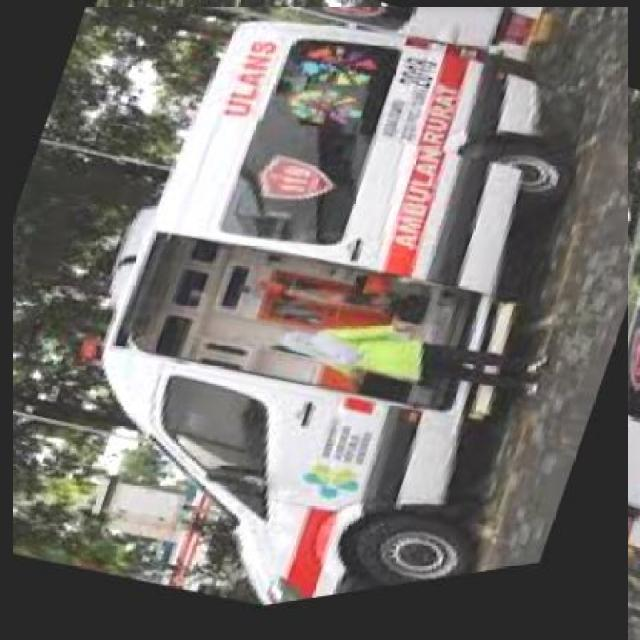emergency-vehicle: (7, 12, 634, 639)
